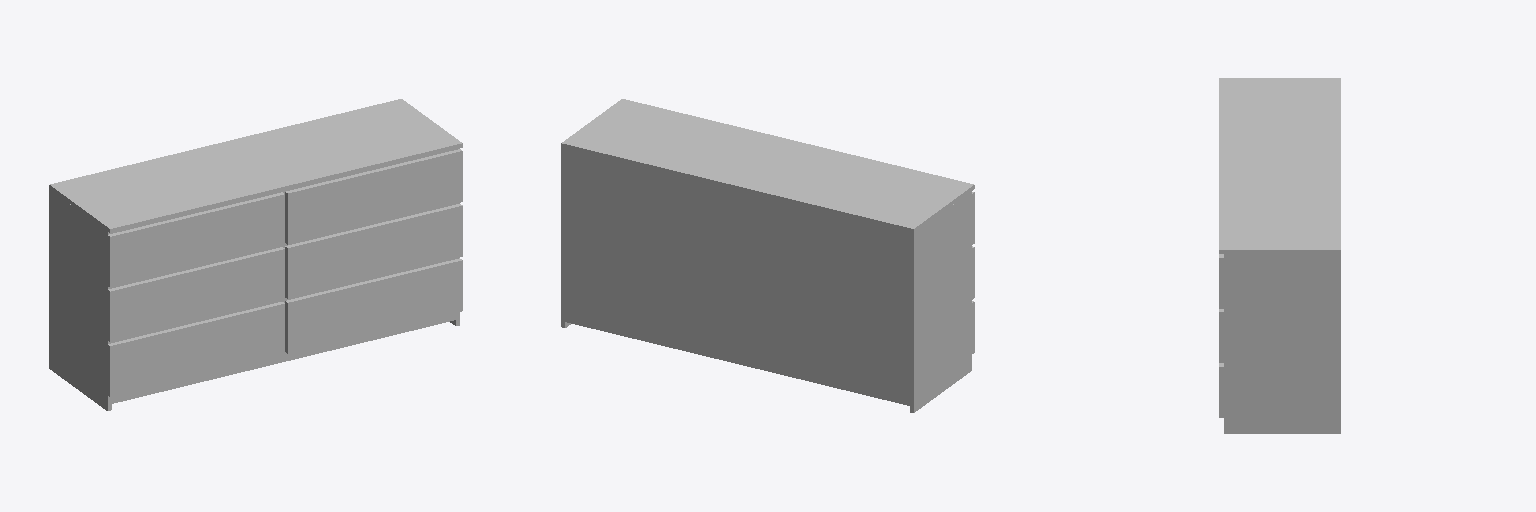
File: MALMx6.obj
3 renders of one model, left to right at view 1: azimuth 30°, elevation 25°; view 2: azimuth 150°, elevation 25°; view 3: azimuth 270°, elevation 25°, orthographic.
Visible parts, largest first — view 1: Cube.006_Cube.007, Cube.002_Cube.003, Cube.003_Cube.004; view 2: Cube.003_Cube.004, Cube.002_Cube.003; view 3: Cube.002_Cube.003, Cube.006_Cube.007.
Boxes of the visible parts, x1=… form: Cube.006_Cube.007: x1=108, y1=149, x2=462, y2=396; Cube.002_Cube.003: x1=49, y1=99, x2=462, y2=410; Cube.003_Cube.004: x1=112, y1=149, x2=455, y2=403; Cube.003_Cube.004: x1=565, y1=149, x2=909, y2=405; Cube.002_Cube.003: x1=561, y1=99, x2=974, y2=412; Cube.002_Cube.003: x1=1219, y1=78, x2=1340, y2=433; Cube.006_Cube.007: x1=1219, y1=254, x2=1223, y2=417.
Bounding box in the file's own units: 3.2 × 1.6 × 0.9588.